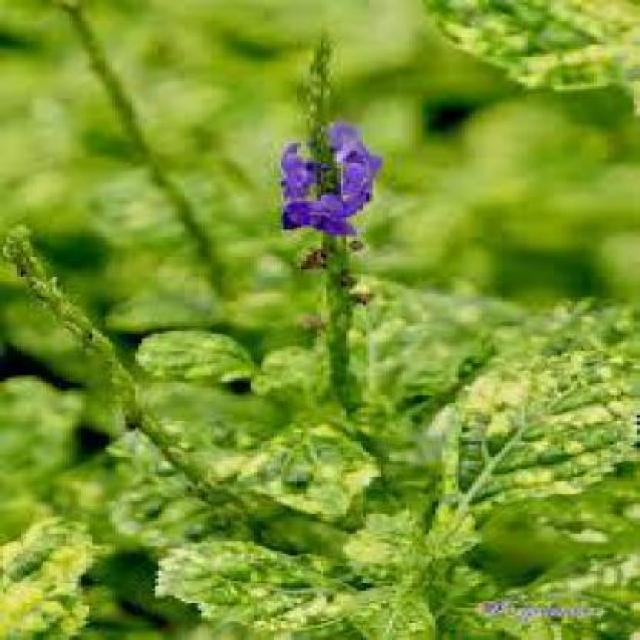flower: (274, 117, 360, 238)
